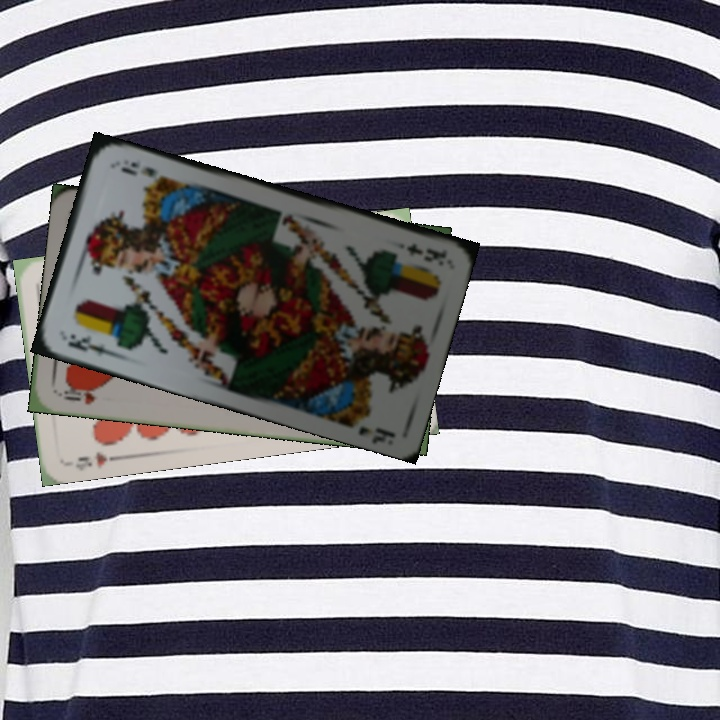EK: (64, 330, 118, 360), (402, 239, 450, 265)
H9: (71, 447, 124, 473)
HO: (55, 379, 102, 407)
